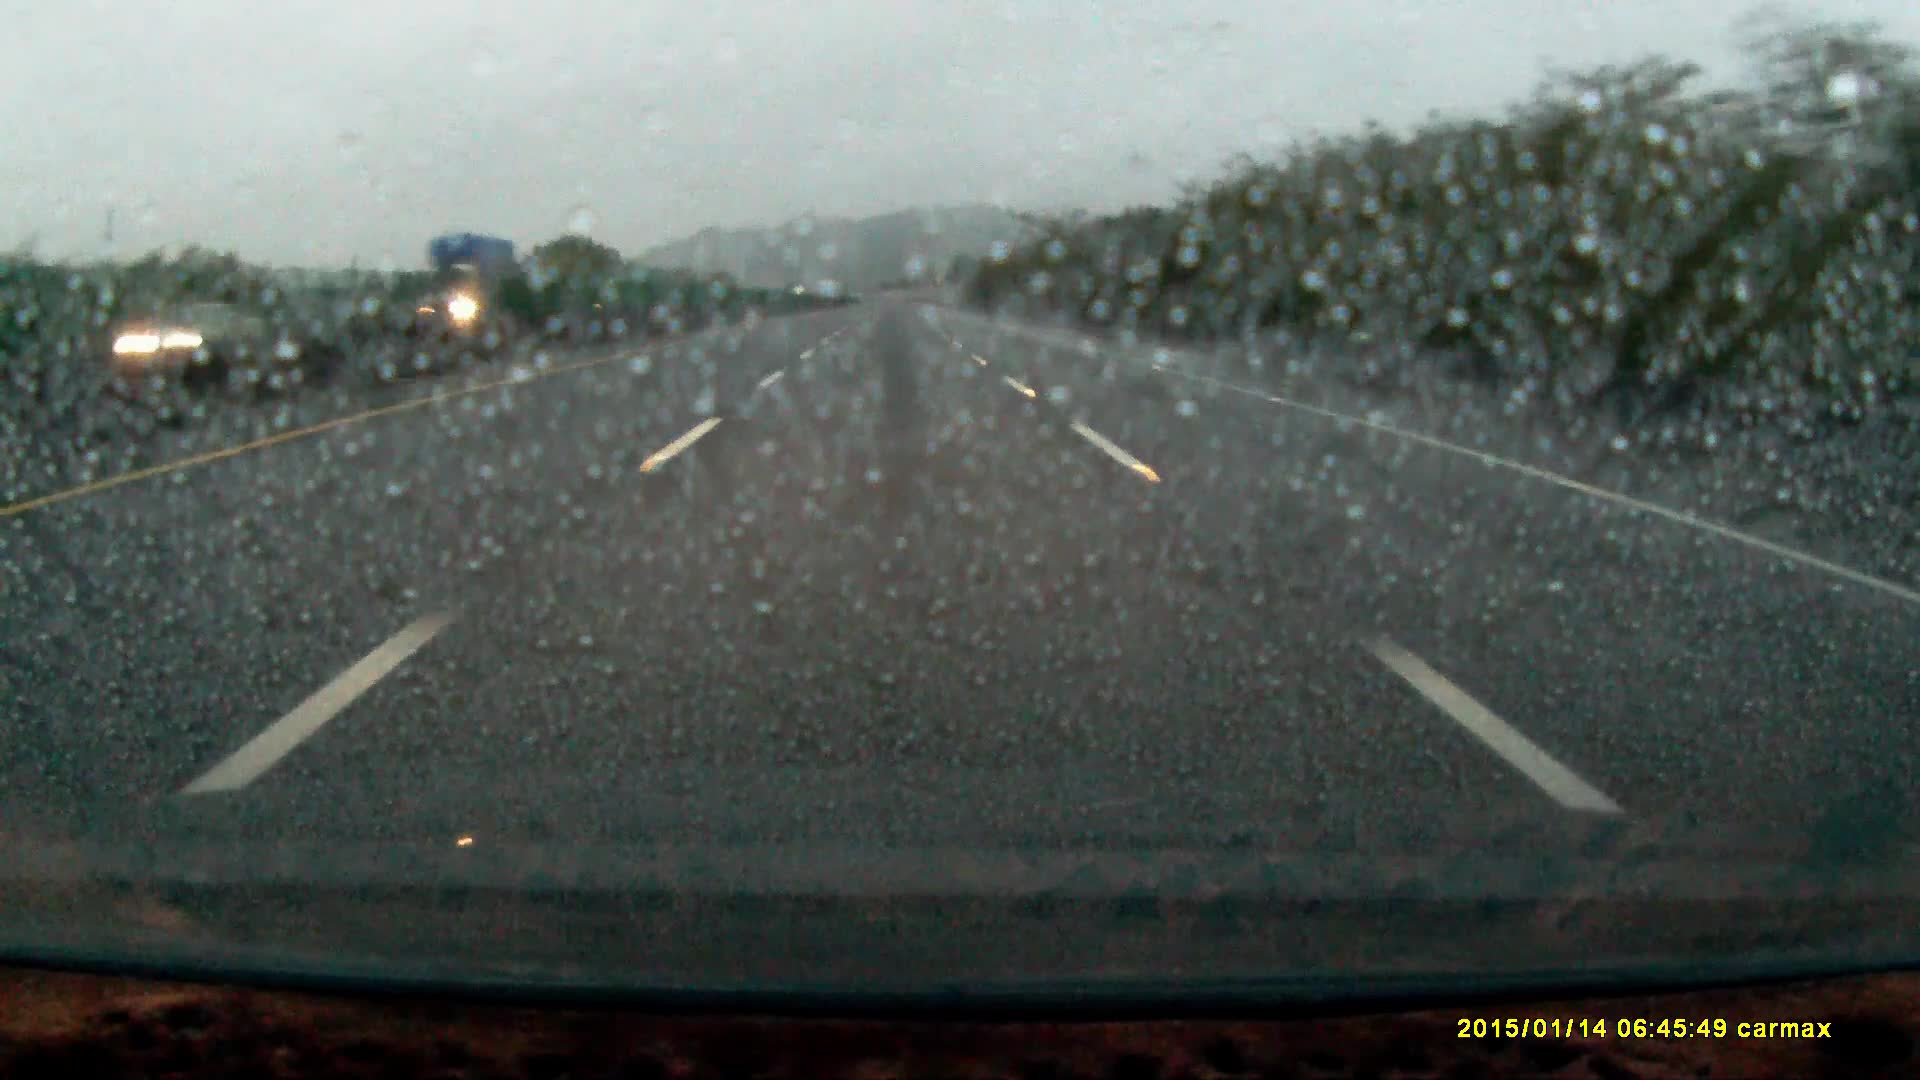vehicle: (413, 237, 527, 336), (123, 309, 264, 357)
